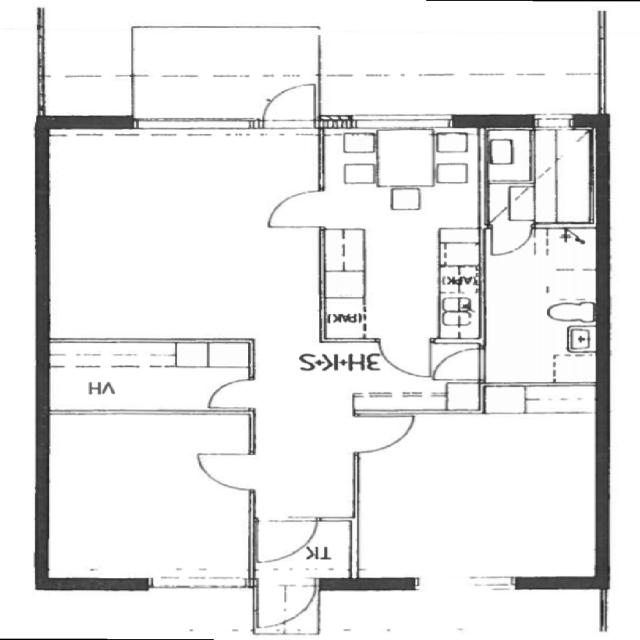door: (251, 181, 329, 235), (249, 513, 328, 566), (249, 579, 322, 632), (253, 78, 322, 134), (349, 408, 417, 454), (187, 447, 257, 491), (374, 336, 434, 379), (427, 344, 488, 386), (482, 219, 538, 259), (197, 374, 256, 410)
window: (128, 112, 254, 142), (38, 403, 235, 422), (404, 570, 526, 596), (341, 111, 462, 132), (585, 584, 619, 638), (523, 112, 579, 130)
zone: (41, 126, 316, 344), (352, 396, 608, 583), (316, 129, 484, 352), (44, 413, 255, 585), (482, 231, 604, 389), (310, 583, 606, 639), (490, 122, 598, 233)
